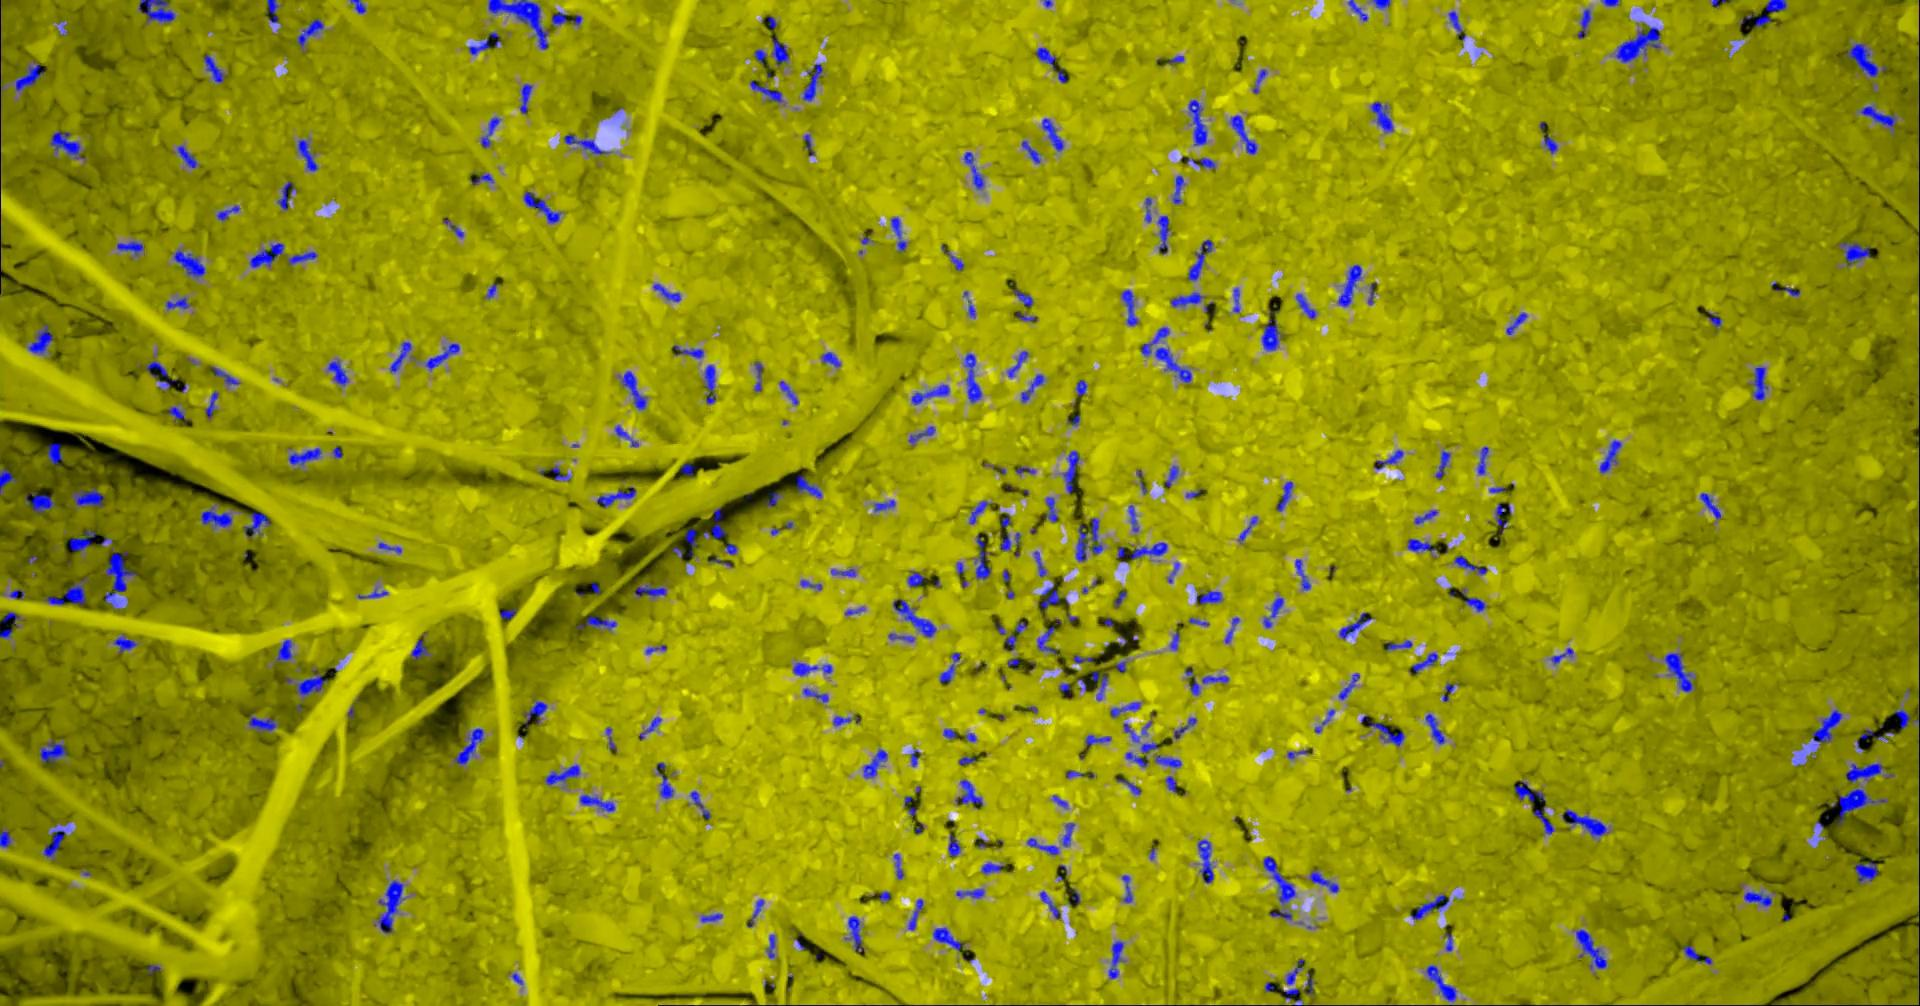ant: (489, 0, 550, 50), (1142, 326, 1192, 382), (105, 547, 138, 608), (1834, 788, 1887, 824), (1617, 25, 1662, 62), (376, 879, 406, 934), (894, 600, 938, 636), (1265, 856, 1297, 903), (1848, 43, 1890, 76), (44, 575, 89, 605), (524, 191, 563, 224), (1563, 808, 1608, 836), (1577, 929, 1608, 968), (1741, 0, 1788, 25), (1077, 518, 1103, 561), (1427, 964, 1458, 1001), (1666, 652, 1694, 691), (1037, 47, 1068, 83), (1813, 709, 1844, 744), (456, 727, 485, 763), (1189, 239, 1214, 279), (1232, 116, 1258, 154), (1338, 264, 1363, 306), (1412, 894, 1450, 920), (623, 370, 648, 409), (51, 131, 86, 158), (1119, 542, 1168, 561), (175, 249, 207, 278), (147, 361, 179, 390), (427, 343, 461, 370), (565, 133, 610, 154), (17, 60, 46, 90), (1862, 105, 1897, 130), (1370, 721, 1406, 746), (1340, 612, 1373, 638), (298, 18, 325, 48), (1190, 99, 1208, 145), (297, 669, 329, 695), (251, 243, 284, 267), (966, 353, 983, 401), (140, 0, 177, 22), (804, 64, 824, 102), (965, 151, 985, 189), (29, 323, 55, 353), (913, 384, 951, 404), (703, 507, 728, 539), (935, 927, 966, 951), (469, 32, 502, 55), (1043, 118, 1065, 151), (598, 486, 637, 506), (957, 779, 984, 807), (1263, 312, 1283, 351), (44, 826, 67, 857), (546, 763, 582, 784), (750, 80, 783, 102), (1601, 439, 1623, 473), (1064, 450, 1081, 493), (1199, 840, 1215, 883), (1848, 763, 1884, 782), (846, 915, 865, 951), (1371, 102, 1394, 132), (977, 533, 992, 579), (391, 340, 413, 372), (245, 511, 272, 536), (1022, 373, 1046, 401), (524, 699, 549, 727), (865, 749, 889, 777), (298, 138, 319, 171), (1843, 243, 1872, 265), (1310, 869, 1340, 892), (27, 492, 57, 513), (202, 506, 232, 527), (1263, 597, 1285, 627), (941, 652, 963, 682), (70, 528, 98, 551), (658, 762, 676, 798), (1410, 652, 1439, 673), (1516, 780, 1545, 801), (1534, 805, 1556, 835), (72, 486, 105, 506), (1457, 555, 1490, 574), (483, 116, 502, 147), (204, 55, 226, 83), (41, 741, 69, 762), (1123, 290, 1139, 325), (290, 447, 323, 465), (970, 500, 994, 525), (1427, 713, 1446, 743), (1110, 940, 1125, 978), (943, 244, 965, 271), (1377, 448, 1404, 469), (1702, 492, 1722, 520), (578, 615, 618, 629), (1039, 625, 1059, 653), (250, 711, 278, 732), (691, 790, 711, 818), (1041, 890, 1062, 918), (891, 217, 908, 251), (582, 794, 616, 810), (1463, 588, 1487, 611), (329, 359, 350, 385), (797, 475, 823, 497), (1340, 673, 1361, 699), (1092, 669, 1110, 700), (1029, 837, 1060, 854), (1855, 861, 1879, 883), (1449, 11, 1467, 41), (654, 283, 683, 301), (1684, 945, 1713, 963), (1041, 583, 1062, 608), (1010, 351, 1029, 377), (1754, 366, 1769, 399), (794, 662, 833, 674), (213, 366, 241, 384), (640, 716, 663, 738), (1175, 716, 1197, 738), (1297, 293, 1317, 318), (616, 426, 640, 446), (705, 365, 717, 403), (1239, 516, 1258, 541), (279, 180, 296, 210), (1277, 481, 1294, 511), (1182, 155, 1217, 169), (910, 426, 937, 443), (1288, 958, 1305, 984), (178, 145, 199, 166), (1507, 312, 1529, 334), (1497, 502, 1512, 532), (1297, 559, 1312, 589), (909, 898, 924, 929), (1172, 292, 1205, 306), (1, 467, 18, 495), (748, 899, 764, 927), (1112, 701, 1142, 716), (773, 38, 790, 65), (1159, 215, 1171, 253), (781, 380, 799, 404), (1578, 8, 1592, 38), (552, 11, 583, 25), (118, 240, 146, 255), (1745, 890, 1773, 906), (1349, 0, 1369, 20), (411, 638, 430, 659), (1023, 140, 1041, 163), (1197, 589, 1224, 605), (1225, 616, 1241, 643), (116, 635, 138, 653), (1552, 647, 1575, 664), (1186, 667, 1201, 694), (636, 584, 668, 597), (1117, 777, 1142, 794), (1437, 450, 1451, 478), (521, 83, 533, 113), (444, 218, 465, 238), (48, 442, 65, 465), (676, 345, 705, 358), (1410, 539, 1439, 551), (290, 251, 317, 264), (1773, 282, 1801, 295), (686, 528, 698, 556), (804, 687, 829, 701), (1156, 754, 1183, 767), (218, 205, 241, 220), (1015, 288, 1034, 306), (1255, 69, 1269, 93), (278, 639, 293, 661), (1128, 751, 1149, 766), (1387, 639, 1415, 650), (1123, 874, 1134, 902), (823, 351, 842, 367), (1125, 723, 1142, 742), (1286, 988, 1305, 1005), (168, 296, 192, 309), (1035, 551, 1048, 575), (1063, 822, 1076, 846), (207, 391, 218, 418), (1086, 734, 1112, 746), (359, 588, 389, 598), (4, 611, 22, 627), (552, 465, 571, 480), (1048, 495, 1059, 521), (1416, 511, 1439, 523), (1896, 709, 1911, 728), (1545, 132, 1559, 152), (1175, 175, 1185, 203), (169, 406, 189, 420), (1479, 446, 1490, 474), (957, 888, 985, 898), (267, 0, 279, 22), (1167, 465, 1180, 486), (950, 835, 963, 856), (756, 361, 764, 391), (1130, 504, 1140, 531), (472, 173, 495, 184), (1203, 674, 1230, 683), (875, 499, 897, 511), (895, 854, 905, 878), (1708, 311, 1723, 326), (380, 542, 403, 553), (1305, 972, 1316, 995), (767, 492, 783, 506), (909, 572, 926, 586), (890, 633, 916, 641), (1444, 683, 1457, 701), (1166, 775, 1178, 793), (983, 862, 1004, 873), (1001, 531, 1012, 550), (1004, 634, 1018, 649), (350, 0, 367, 13), (803, 579, 823, 589), (1270, 911, 1293, 920), (768, 934, 777, 956), (1145, 197, 1153, 222), (832, 568, 857, 575), (1171, 630, 1181, 649), (702, 913, 724, 922), (1077, 379, 1088, 395), (681, 464, 697, 475), (1074, 654, 1095, 663), (1142, 742, 1159, 752), (1, 829, 11, 847), (756, 50, 768, 64), (1060, 683, 1073, 697), (502, 607, 517, 619), (943, 728, 959, 738), (836, 716, 852, 725), (1373, 0, 1392, 8), (10, 589, 25, 598), (1236, 287, 1241, 312), (1, 627, 13, 638)
